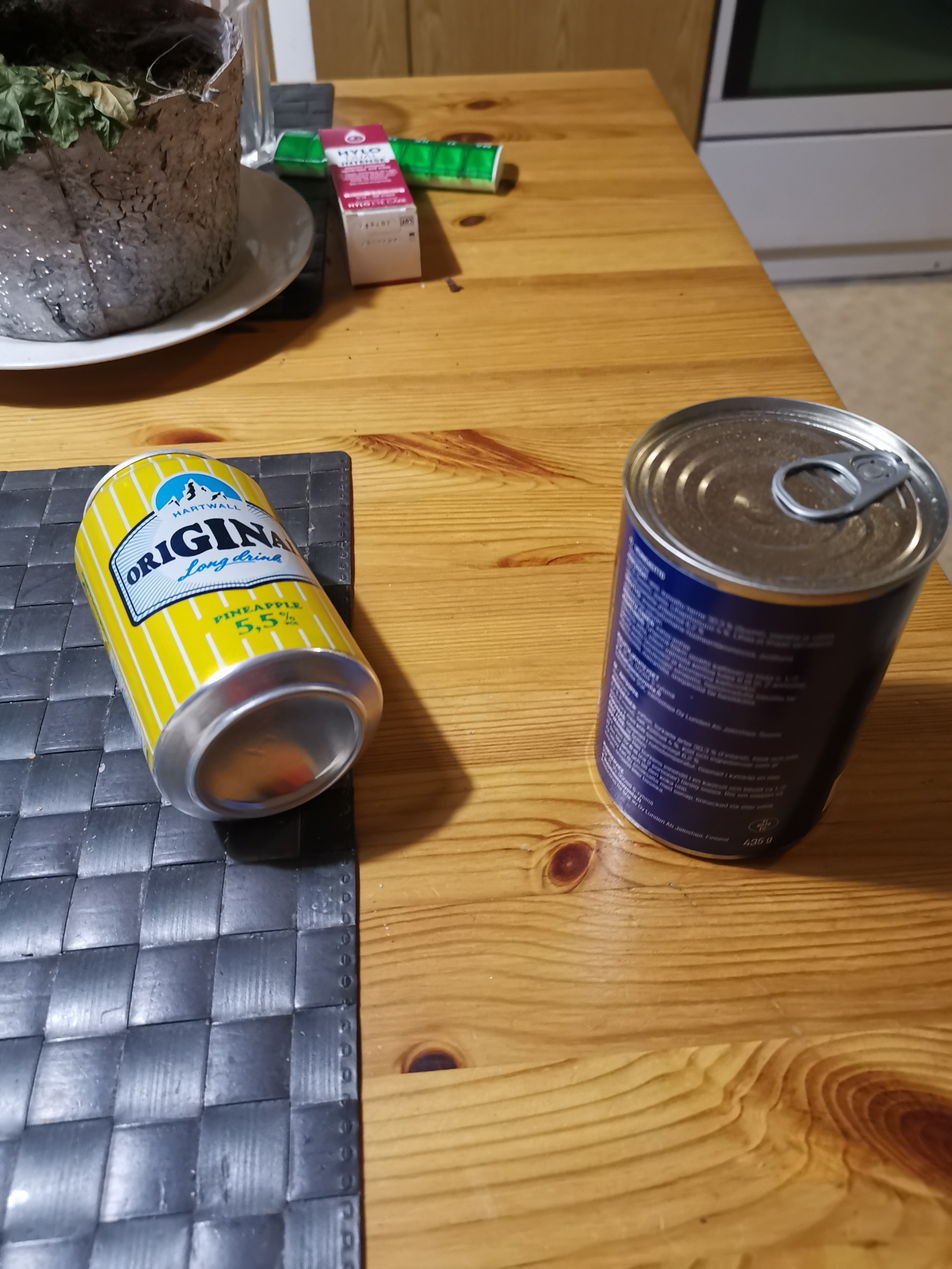Konservburk: (591, 395, 950, 864)
Pantburk: (72, 446, 386, 823)
